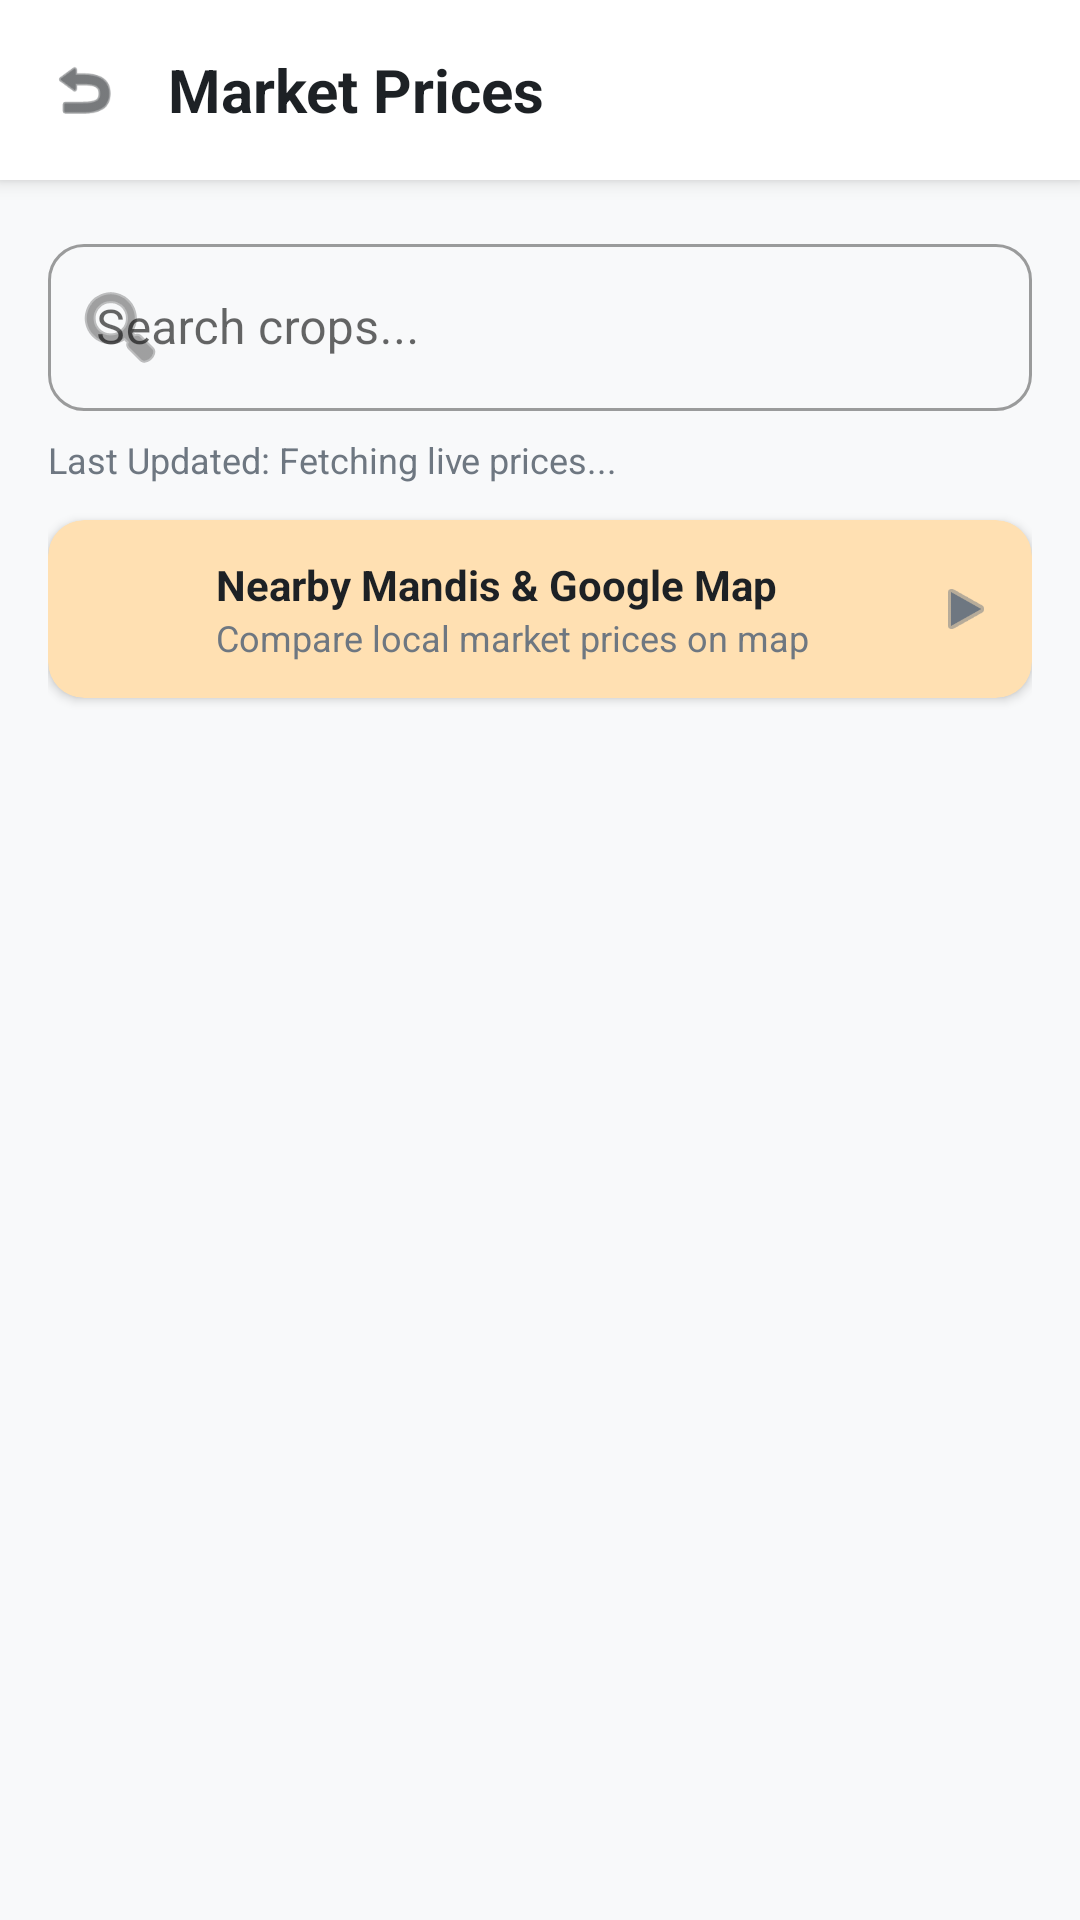

Screen size 1080 x 1920. Icon name, then its box in pixels as (x1, y1, x2, y2):
play: (948, 589, 984, 629)
revert: (59, 67, 111, 114)
